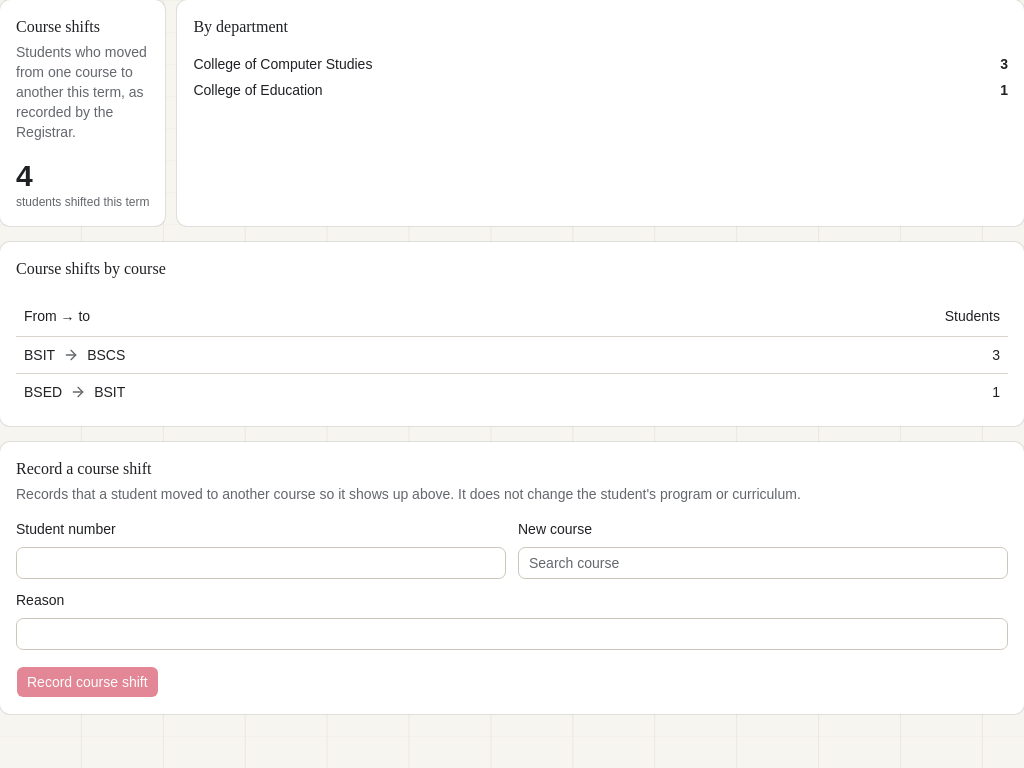
Scenario: EnrollmentMovementsPanel › records a shift for the Registrar
Expected: the heading "Record a course shift" is shown, [16,460,152,476]
Expected: the button "Record course shift" is disabled, [16,666,159,698]
Type "2026-0001" into the field labelled "Student number" at (261, 563), box [16,547,506,579]
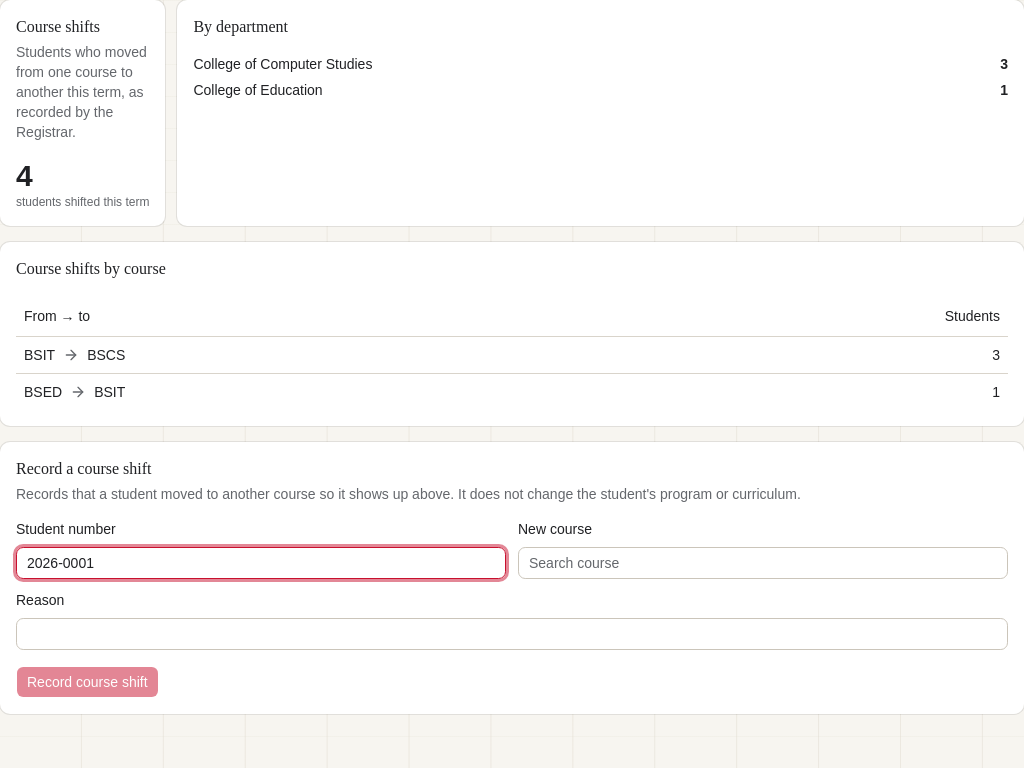
Click the dropdown labelled "New course" at (763, 563), box [518,547,1008,579]
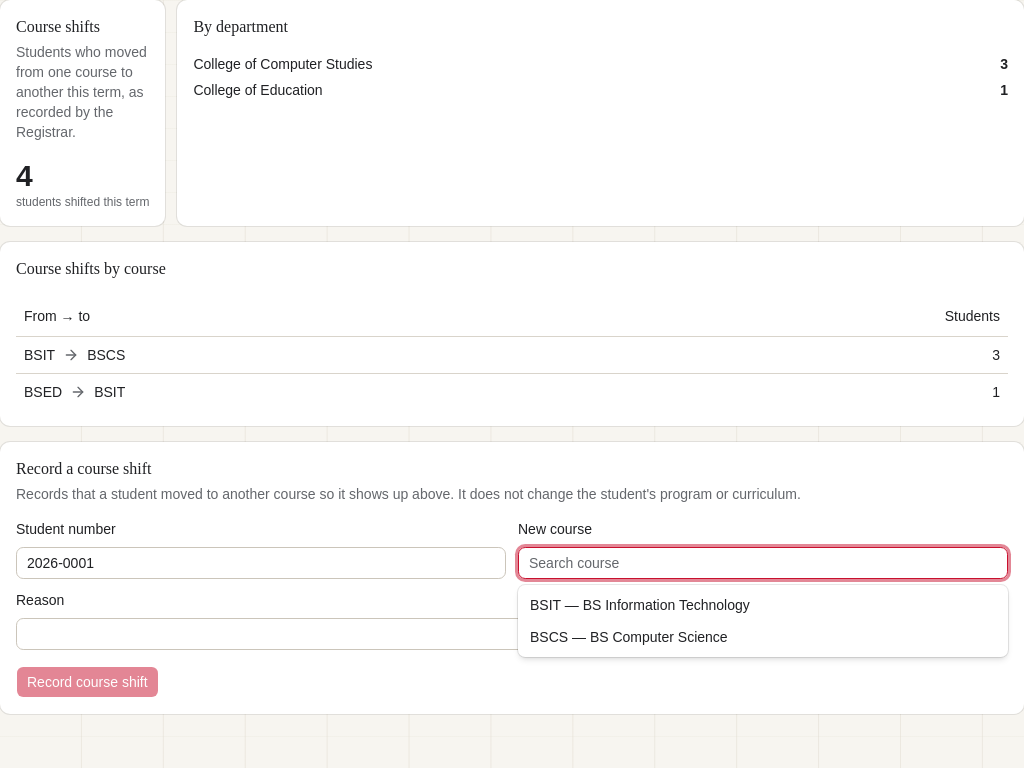
Click the option "BSCS — BS Computer Science" at (629, 637), box [530,629,728,645]
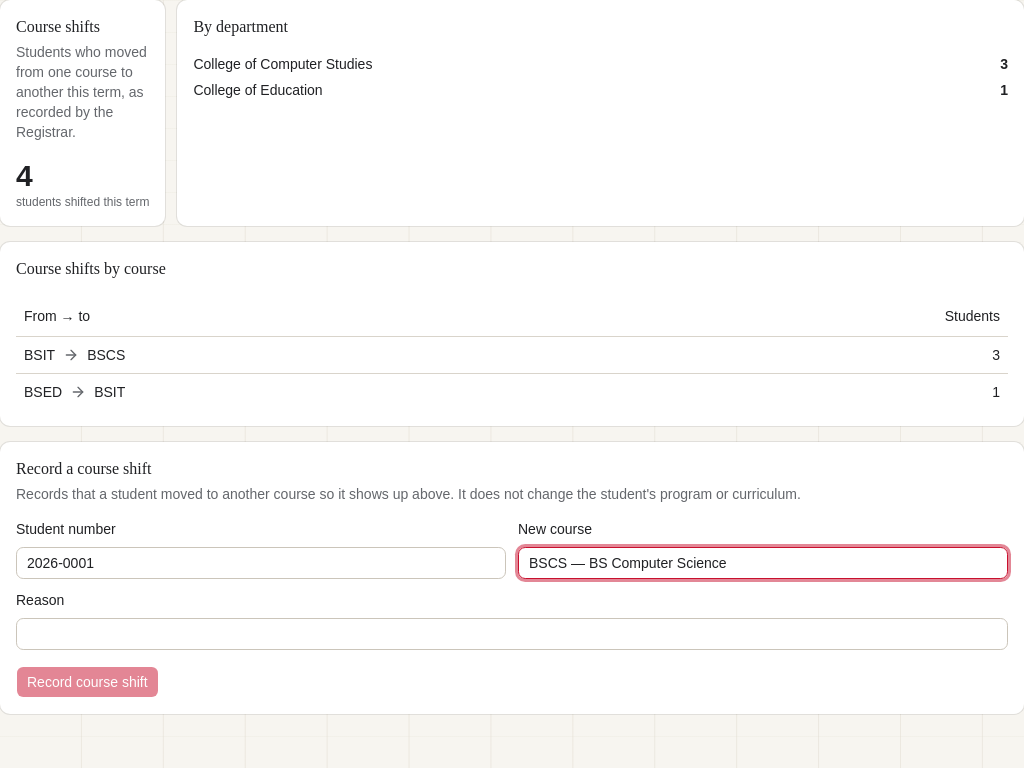
Type "Changed course" into the field labelled "Reason" at (512, 634), box [16,618,1008,650]
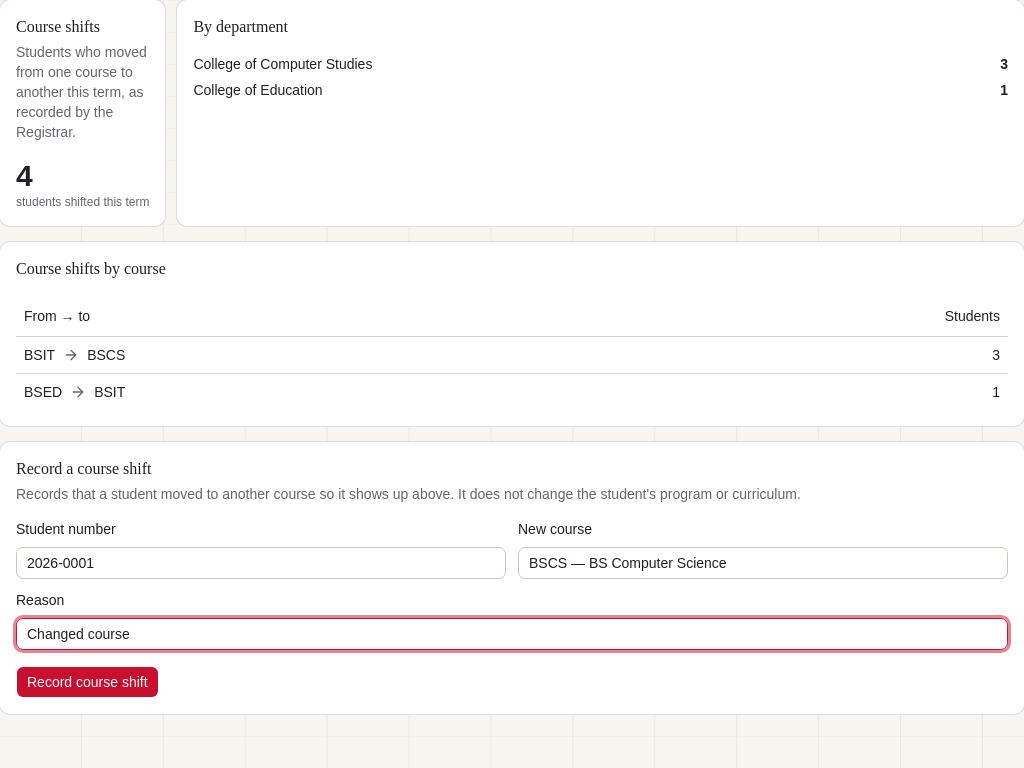
Result: the button "Record course shift" is enabled
Click the button "Record course shift" at (87, 682), box [16,666,159,698]
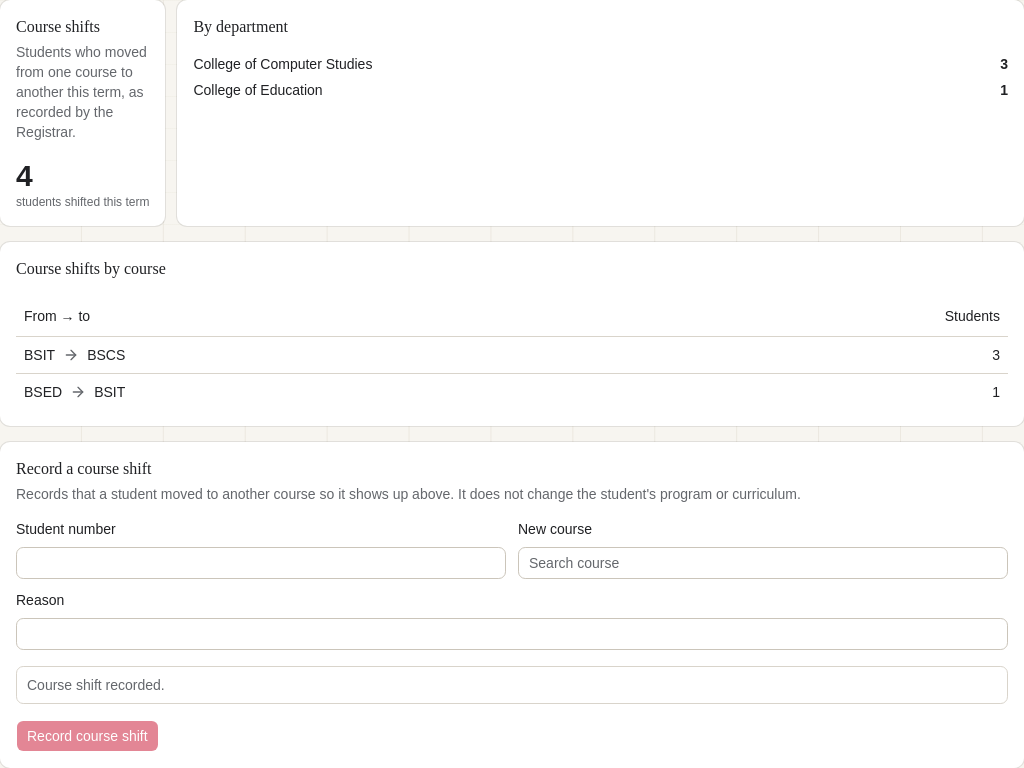
Result: the text "Course shift recorded." is shown at [27,677,165,693]
